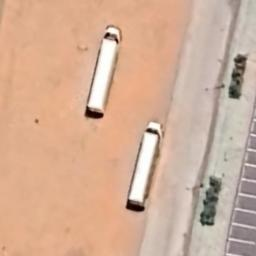truck: (86, 25, 122, 115), (128, 120, 164, 208)
